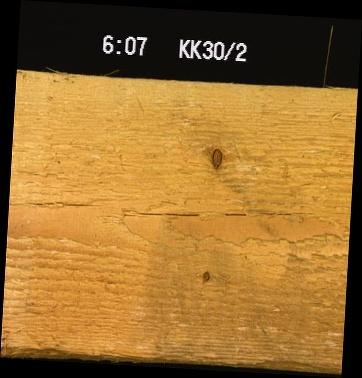dry_knot: (209, 147, 223, 171)
split: (126, 208, 198, 216), (53, 198, 100, 208), (222, 209, 245, 217)
wave: (0, 345, 97, 360)
